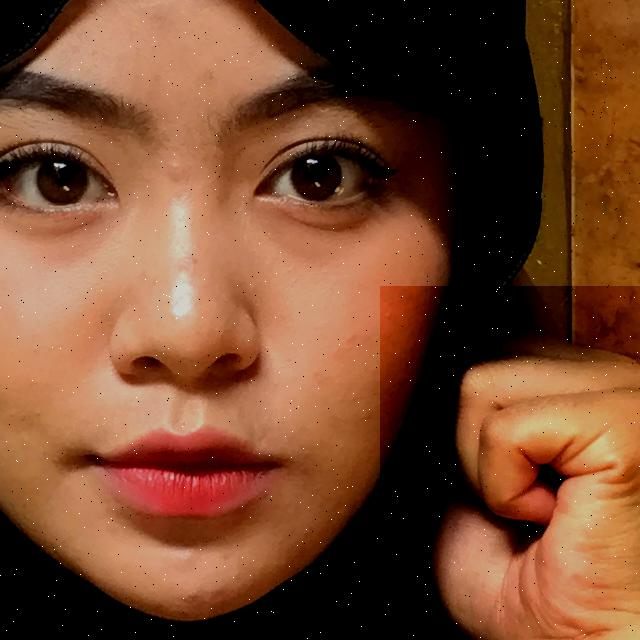ibu: (380, 286, 640, 640)
